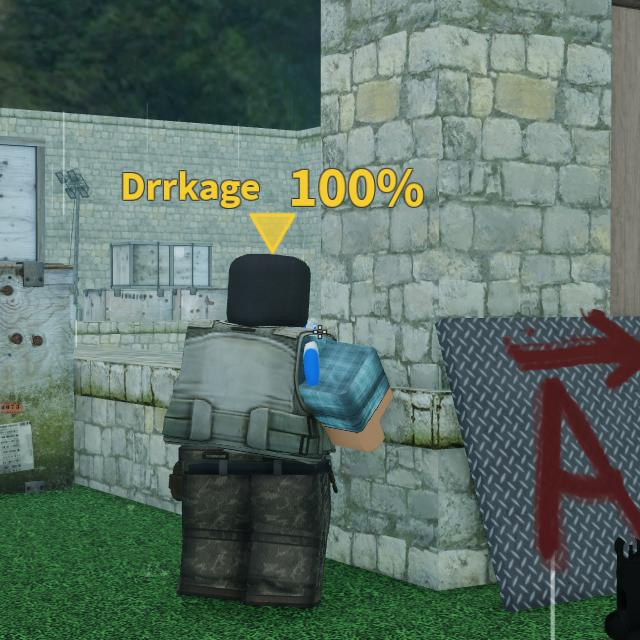Head: (224, 255, 310, 326)
Player: (163, 254, 393, 608)
